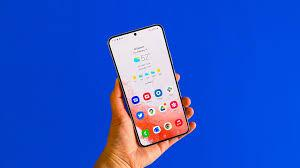Hand: (106, 79, 198, 168)
Smartphone: (104, 32, 186, 147)
